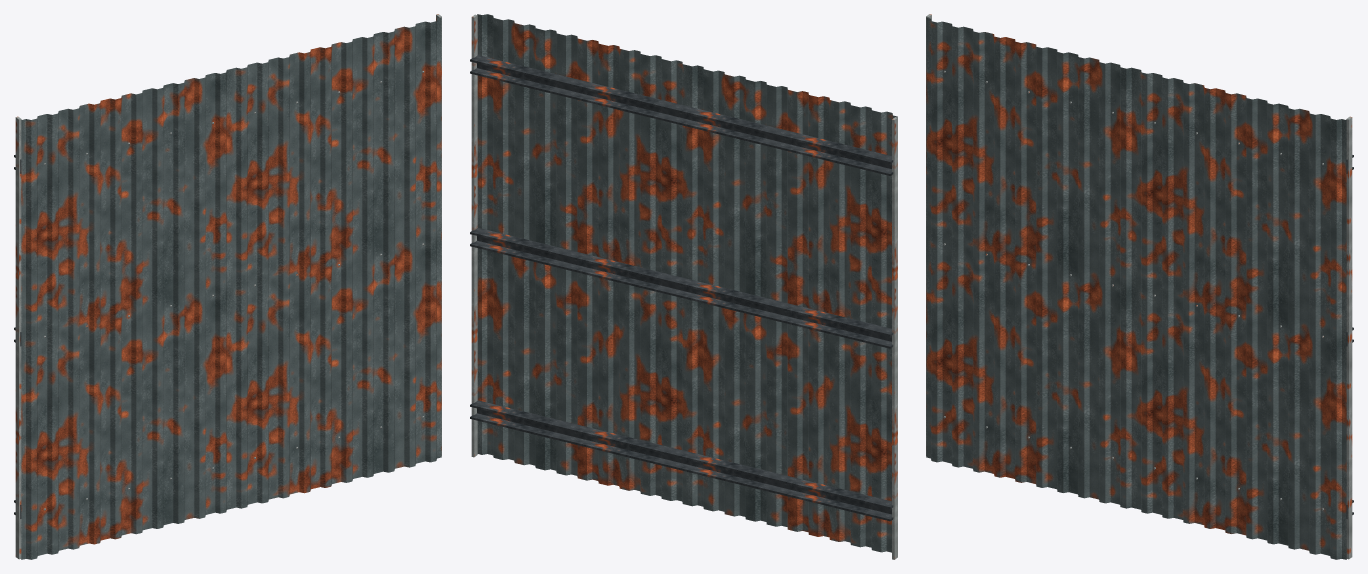
File: WALL_4000x4000_RUST_LIGHT.glb
The picture shows the model from 3 angles, left to right: view 1: azimuth 30°, elevation 25°; view 2: azimuth 150°, elevation 25°; view 3: azimuth 330°, elevation 25°; orthographic projection.
Parts seen in each view (by area): view 1: WALL_4000x4000_RUST_LIGHT__Cladding_1p2mm_Corrugated, WALL_4000x4000_RUST_LIGHT__Joints_VerticalEdgeTrims; view 2: WALL_4000x4000_RUST_LIGHT__Cladding_1p2mm_Corrugated, WALL_4000x4000_RUST_LIGHT__Girt_CChannels_Three, WALL_4000x4000_RUST_LIGHT__Joints_VerticalEdgeTrims; view 3: WALL_4000x4000_RUST_LIGHT__Cladding_1p2mm_Corrugated, WALL_4000x4000_RUST_LIGHT__Joints_VerticalEdgeTrims.
Boxes of the visible parts, x1,y1,x2,y2 form: WALL_4000x4000_RUST_LIGHT__Cladding_1p2mm_Corrugated: (21, 17, 441, 559); WALL_4000x4000_RUST_LIGHT__Joints_VerticalEdgeTrims: (15, 14, 441, 559); WALL_4000x4000_RUST_LIGHT__Cladding_1p2mm_Corrugated: (477, 14, 897, 552); WALL_4000x4000_RUST_LIGHT__Girt_CChannels_Three: (470, 55, 893, 521); WALL_4000x4000_RUST_LIGHT__Joints_VerticalEdgeTrims: (471, 14, 897, 559); WALL_4000x4000_RUST_LIGHT__Cladding_1p2mm_Corrugated: (926, 17, 1346, 559); WALL_4000x4000_RUST_LIGHT__Joints_VerticalEdgeTrims: (926, 14, 1352, 559).
Size of the model in its own units: 4.02 by 4 by 0.165.
Materials: 3 (3 with a texture image).
